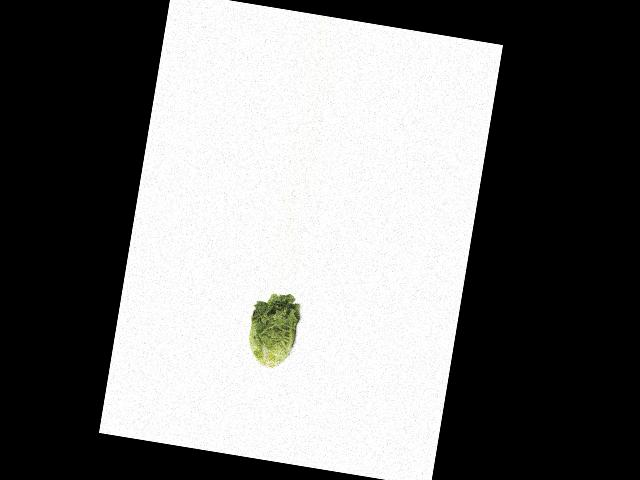lettuce: (239, 289, 306, 372)
